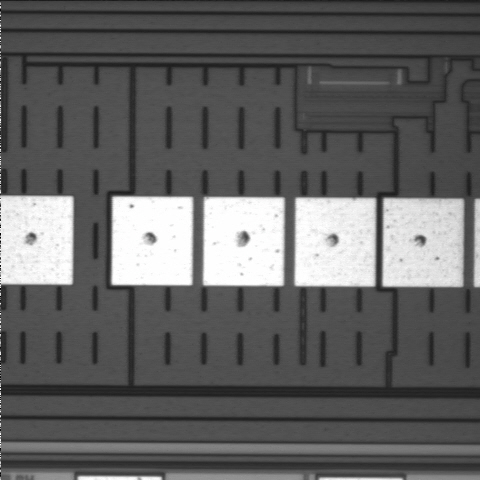pad: (203, 197, 285, 286), (294, 198, 376, 286), (112, 197, 193, 285), (383, 198, 463, 287)
